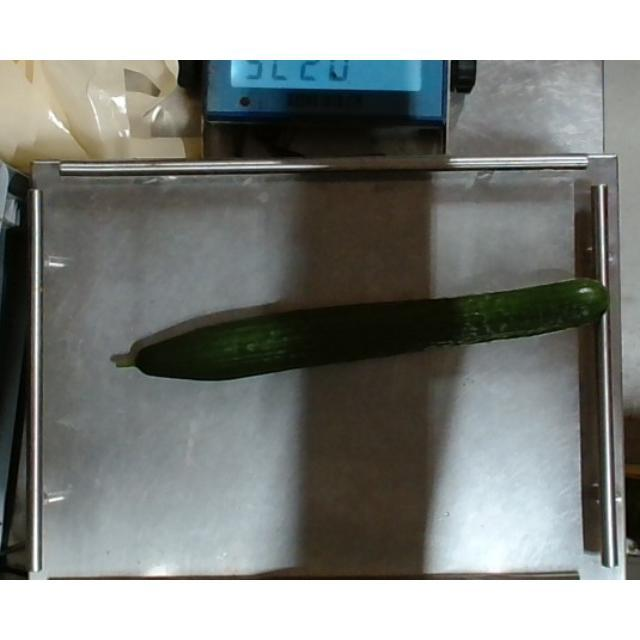cucumber: (124, 276, 610, 380)
